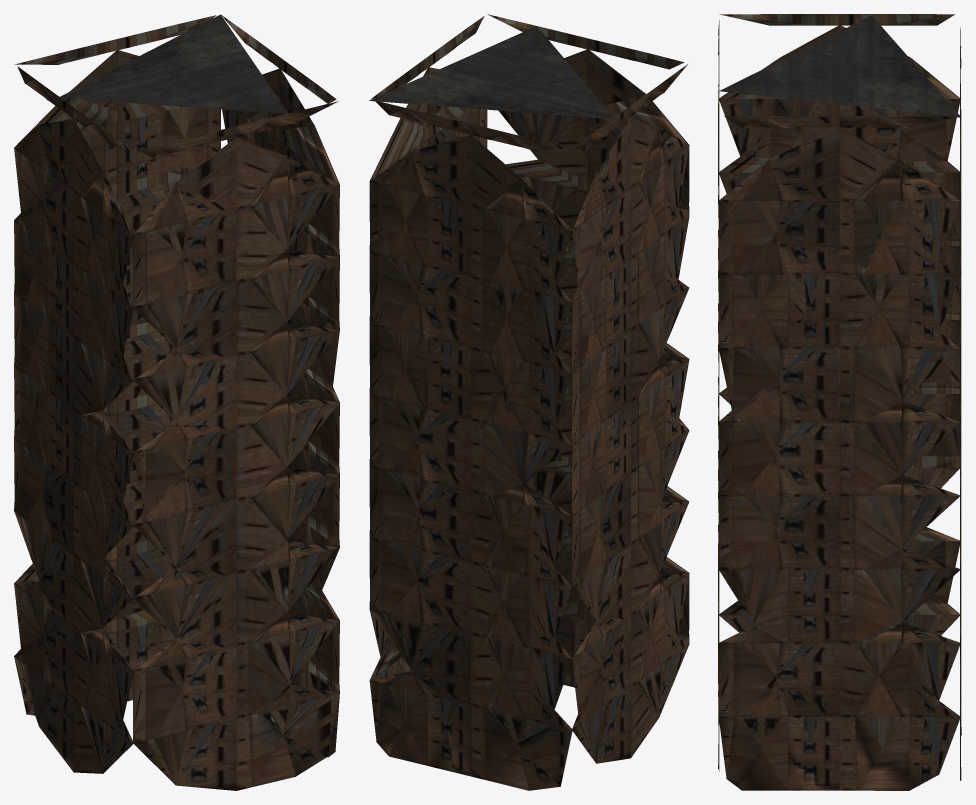
The model's file is city_tower_1.glb.
3 views of the same model, side by side, from view 1: azimuth 30°, elevation 25°; view 2: azimuth 150°, elevation 25°; view 3: azimuth 270°, elevation 25° (orthographic). The views are drawn at different scales.
Parts seen in each view (by area): view 1: CityTower1; view 2: CityTower1; view 3: CityTower1.
Part boxes in pixels (<box>): CityTower1: <box>14,14,339,790</box>; CityTower1: <box>369,14,689,790</box>; CityTower1: <box>718,14,961,790</box>.
Bounding box in the file's own units: 22.88 × 69.84 × 22.88.
Materials: 1 (1 with a texture image).
